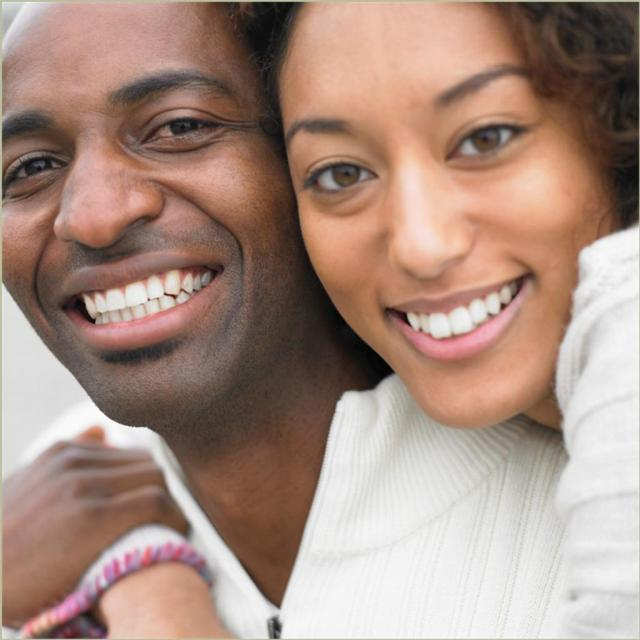Face: (290, 12, 599, 443), (1, 9, 281, 438)
